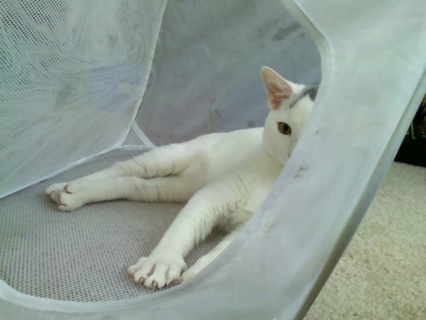Cat: (44, 63, 322, 290)
